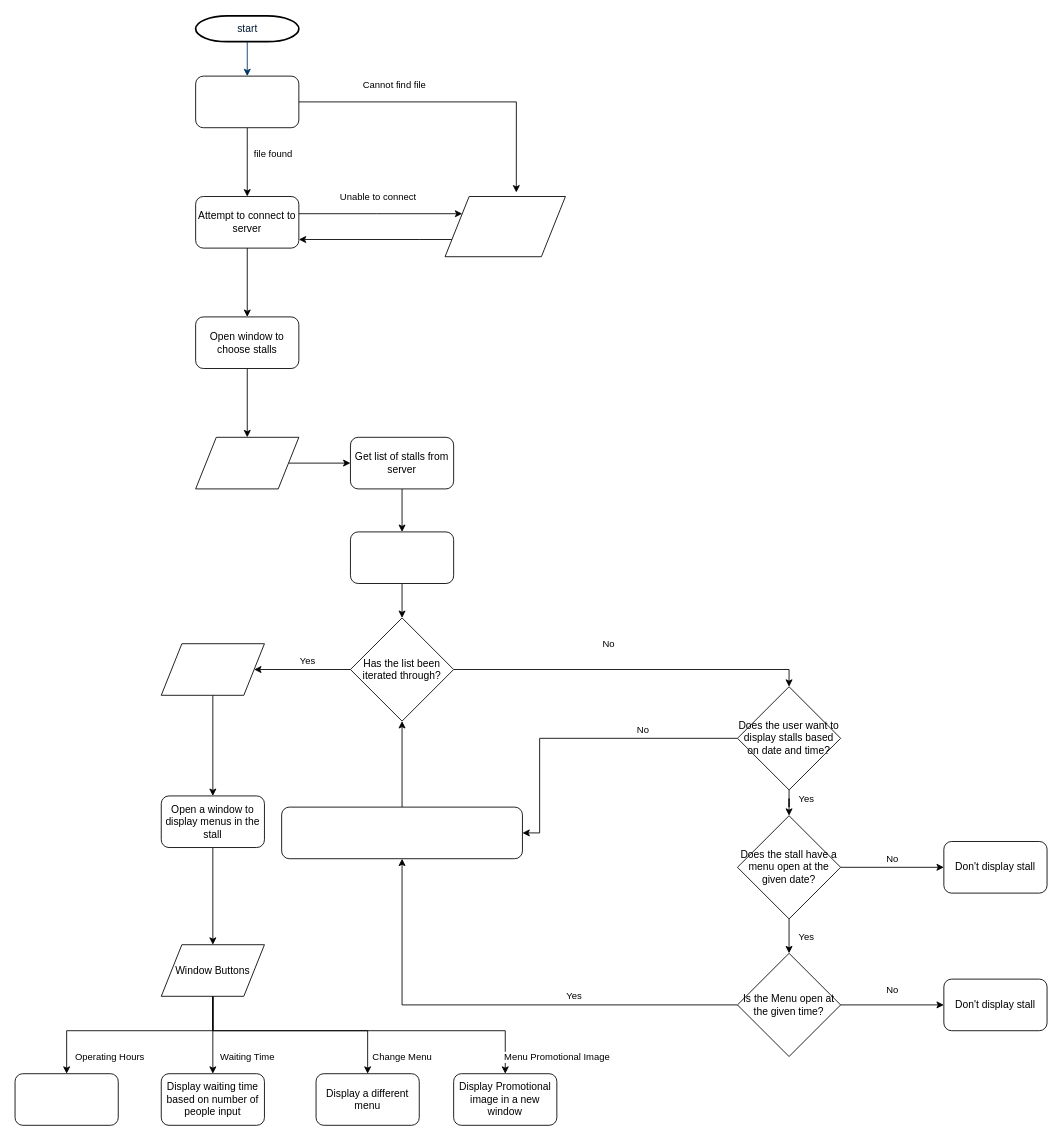
The diagram is 1062 pixels wide and 1140 high, and some of its shapes have lost their labels. Here are the shapes that lost their labels. From the top down, the box of each, then its label:
(195, 75, 299, 128): Read server ip and port from "servers.ini" file
(444, 196, 565, 257): Ask user for server ip and port
(195, 436, 299, 489): User input on searching for stalls (Date and Time)
(350, 531, 454, 584): Iterate through list of stalls
(160, 643, 264, 695): Wait for User to choose a stall
(281, 806, 522, 859): Display stall
(14, 1073, 118, 1125): Display stall operating hours in a new window
